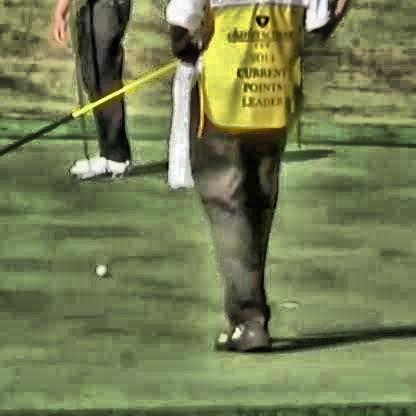golfball: (93, 261, 104, 274)
